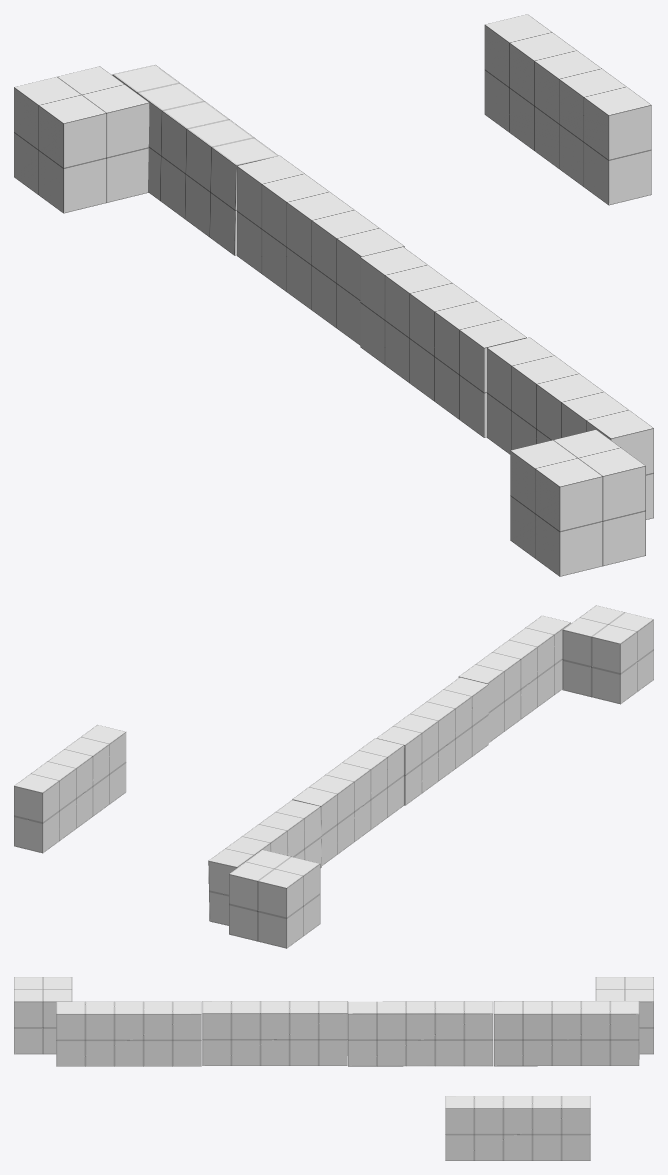
3 views of the same model, one above another, from view 1: azimuth 30°, elevation 25°; view 2: azimuth 150°, elevation 25°; view 3: azimuth 270°, elevation 25° (orthographic). The views are drawn at different scales.
Visible parts, largest first — view 1: GridPlank_0:2, GridPlank_0:3, Plane/BasicEnvironment/StartCube-1, GridPlank_0:4, Plane/BasicEnvironment/StartCube-2, GridPlank_0:1, GridPlank_0; view 2: GridPlank_0:2, GridPlank_0:3, Plane/BasicEnvironment/StartCube-1, Plane/BasicEnvironment/StartCube-2, GridPlank_0:4, GridPlank_0, GridPlank_0:1; view 3: GridPlank_0, GridPlank_0:4, GridPlank_0:1, GridPlank_0:2, GridPlank_0:3, Plane/BasicEnvironment/StartCube-1, Plane/BasicEnvironment/StartCube-2.
Part boxes in pixels (x1,y1,x2,y2): GridPlank_0:2: (484,14,651,205); GridPlank_0:3: (360,247,526,437); Plane/BasicEnvironment/StartCube-1: (510,429,645,576); GridPlank_0:4: (237,155,404,345); Plane/BasicEnvironment/StartCube-2: (14,66,149,213); GridPlank_0:1: (112,65,278,255); GridPlank_0: (487,337,653,519); GridPlank_0:2: (14,725,126,853); GridPlank_0:3: (376,677,488,805); Plane/BasicEnvironment/StartCube-1: (562,605,653,704); Plane/BasicEnvironment/StartCube-2: (229,849,320,948); GridPlank_0:4: (292,738,403,865); GridPlank_0: (458,615,570,742); GridPlank_0:1: (208,800,321,925); GridPlank_0: (56,1001,201,1066); GridPlank_0:4: (348,1001,493,1066); GridPlank_0:1: (494,1001,639,1066); GridPlank_0:2: (445,1096,590,1160); GridPlank_0:3: (202,1001,347,1065); Plane/BasicEnvironment/StartCube-1: (14,977,72,1054); Plane/BasicEnvironment/StartCube-2: (595,977,653,1054).
Bounding box in the file's own units: 1.07 × 0.2026 × 2.2.
